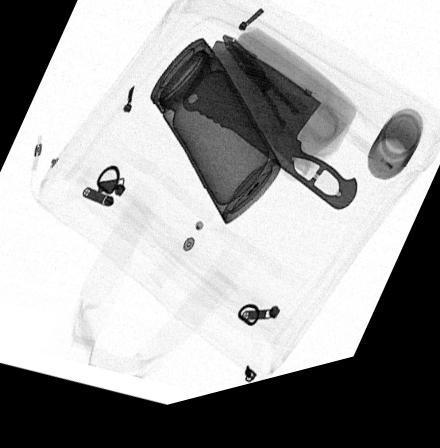Knife: (182, 52, 358, 228)
Scissors: (222, 48, 340, 198)
